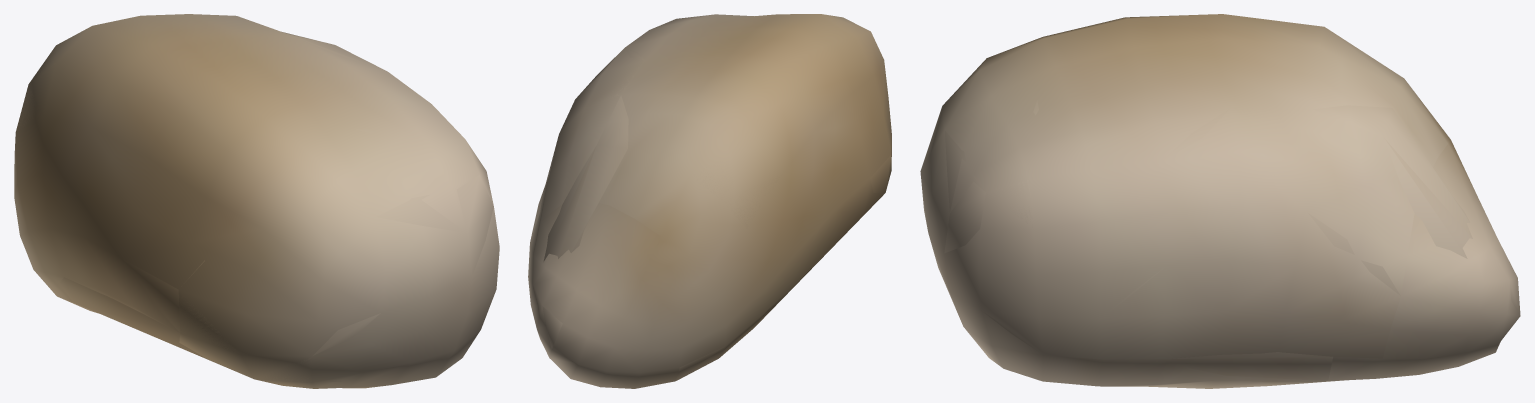
File: L carpi ulnare.fbx
3 views of the same model, side by side, from view 1: azimuth 30°, elevation 25°; view 2: azimuth 150°, elevation 25°; view 3: azimuth 270°, elevation 25° (orthographic). The views are drawn at different scales.
Visible parts, largest first — view 1: L carpi ulnare, L carpi ulnare low; view 2: L carpi ulnare, L carpi ulnare low; view 3: L carpi ulnare, L carpi ulnare low.
Boxes of the visible parts, x1,y1,x2,y2 form: L carpi ulnare: (14, 14, 499, 388); L carpi ulnare low: (16, 37, 493, 382); L carpi ulnare: (528, 14, 891, 388); L carpi ulnare low: (530, 16, 891, 380); L carpi ulnare: (920, 14, 1520, 388); L carpi ulnare low: (944, 100, 1520, 385).
Bounding box in the file's own units: 2.41 × 2.33 × 4.01.
